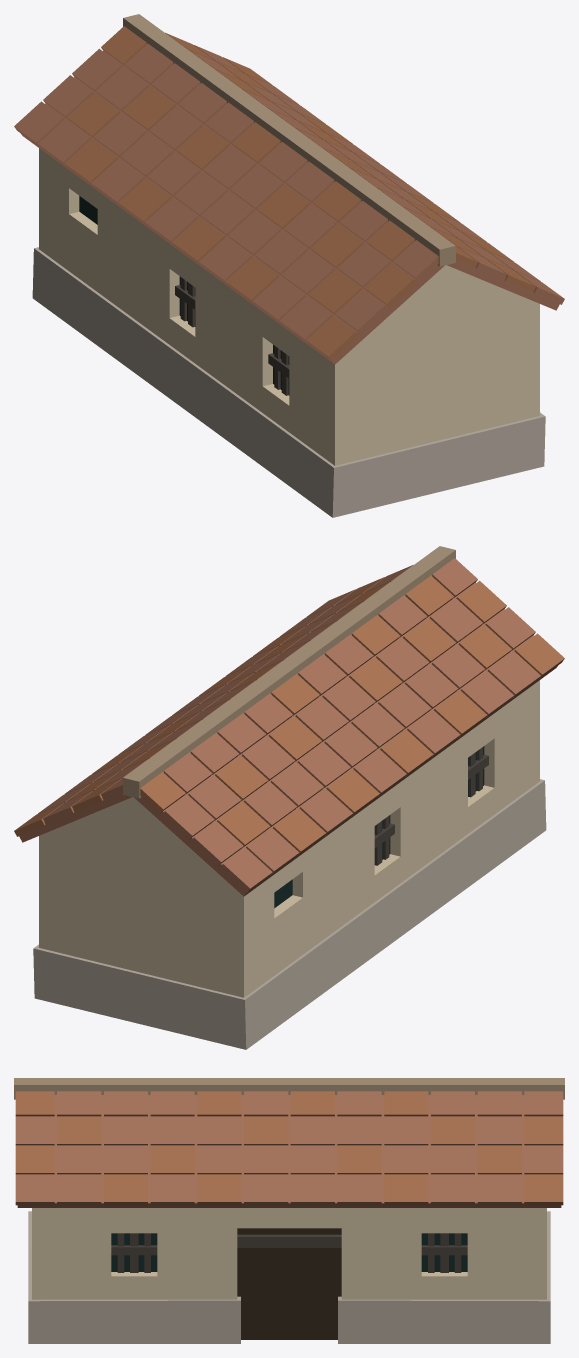
The model's file is Building_mode_L2_Northhouse011.fbx.
The picture shows the model from 3 angles, top to bottom: view 1: azimuth 30°, elevation 25°; view 2: azimuth 150°, elevation 25°; view 3: azimuth 270°, elevation 25°; orthographic projection. The views are drawn at different scales.
Parts seen in each view (by area): view 1: Building_mode_L2_Northhouse011; view 2: Building_mode_L2_Northhouse011; view 3: Building_mode_L2_Northhouse011.
Part boxes in pixels (x1,y1,x2,y2): Building_mode_L2_Northhouse011: [14, 14, 564, 517]; Building_mode_L2_Northhouse011: [14, 546, 564, 1049]; Building_mode_L2_Northhouse011: [14, 1078, 564, 1343].
Bounding box in the file's own units: 2.79 × 2.83 × 6.49.
